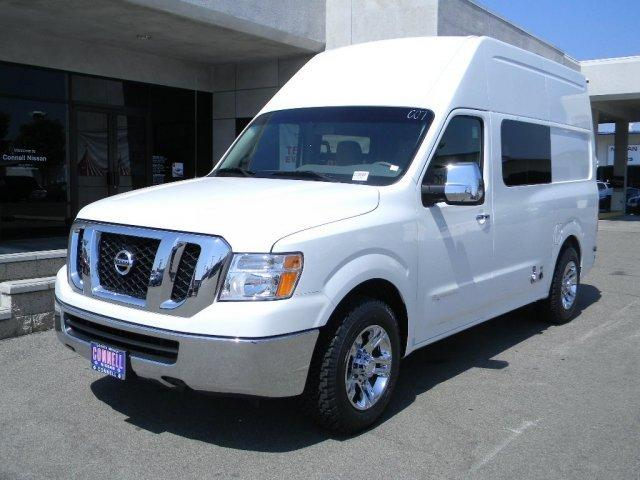car: (41, 60, 594, 422)
